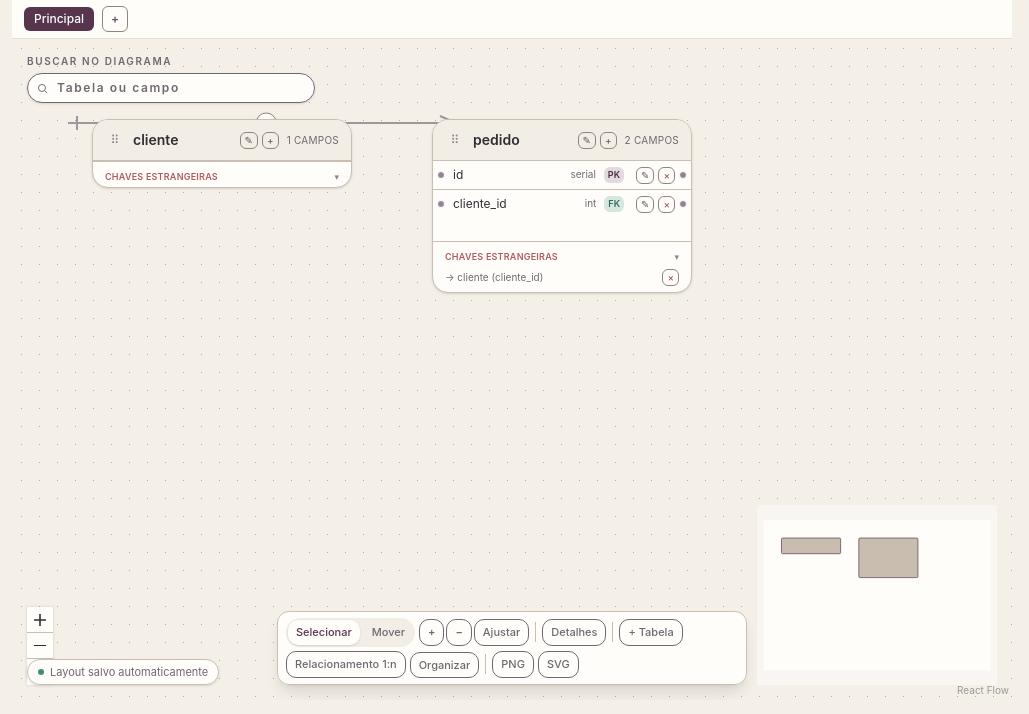
Scenario: DiagramCanvas › arrastar um card persiste posições com debounce e mostra o indicador Salvo às
The width and height of the screenshot is (1029, 714).
Expected: the element with test id "diagram-node-cliente" is shown, [92,119,352,188]
Press the mouse on the element with class "diagram-drag-handle" showing "⠿ cliente ✎ + 1 campos" at (222, 140), box [93,120,351,161]
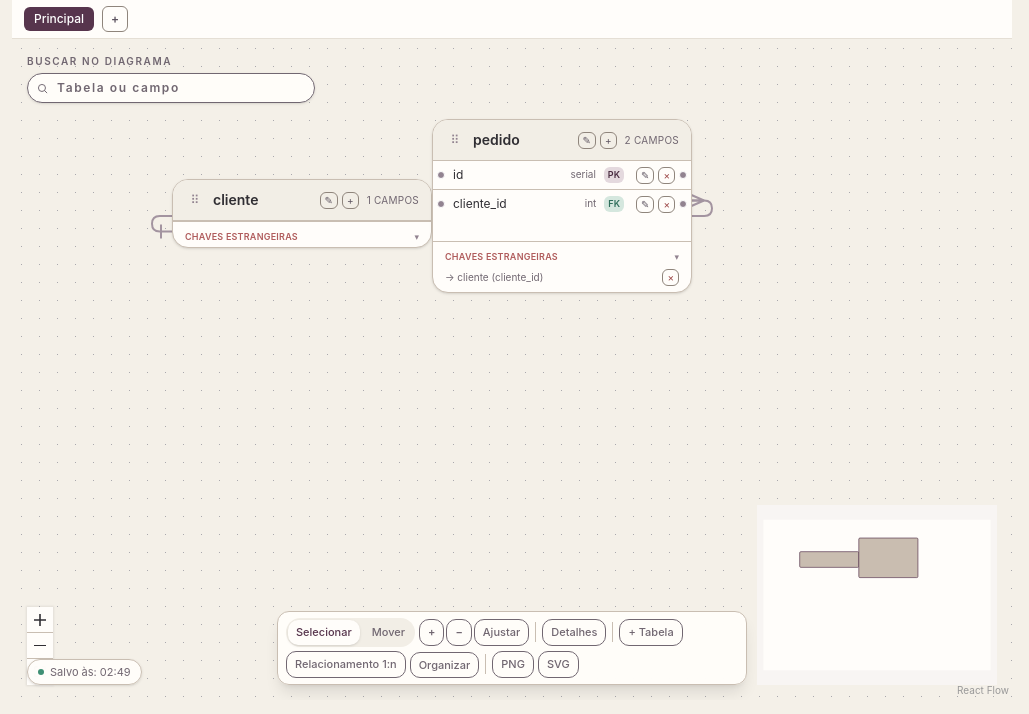
Now the message with test id "diagram-save-status" shows "Salvo às:", box [50,664,131,678]
